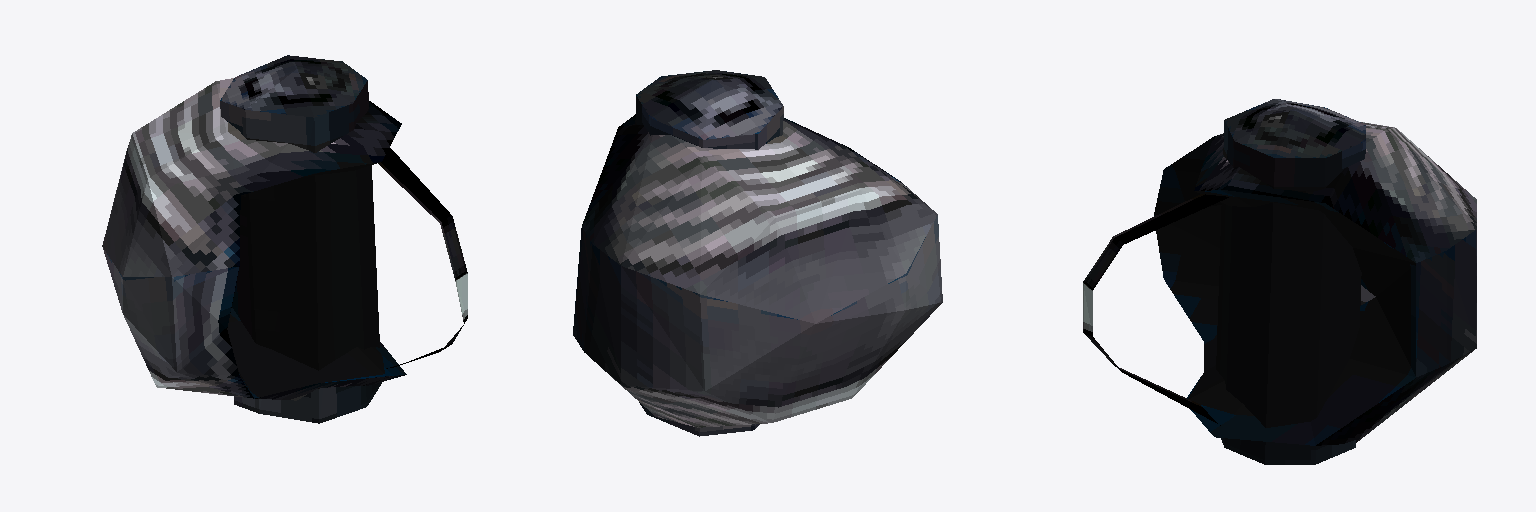
3 views of the same model, side by side, from view 1: azimuth 30°, elevation 25°; view 2: azimuth 150°, elevation 25°; view 3: azimuth 270°, elevation 25° (orthographic).
Visible parts, largest first — view 1: Node 0; view 2: Node 0; view 3: Node 0.
Part boxes in pixels (x1,y1,x2,y2): Node 0: (102,55,467,423); Node 0: (573,70,942,436); Node 0: (1083,99,1476,464).
Bounding box in the file's own units: 0.31 × 0.37 × 0.39.
1 materials, 1 textured.